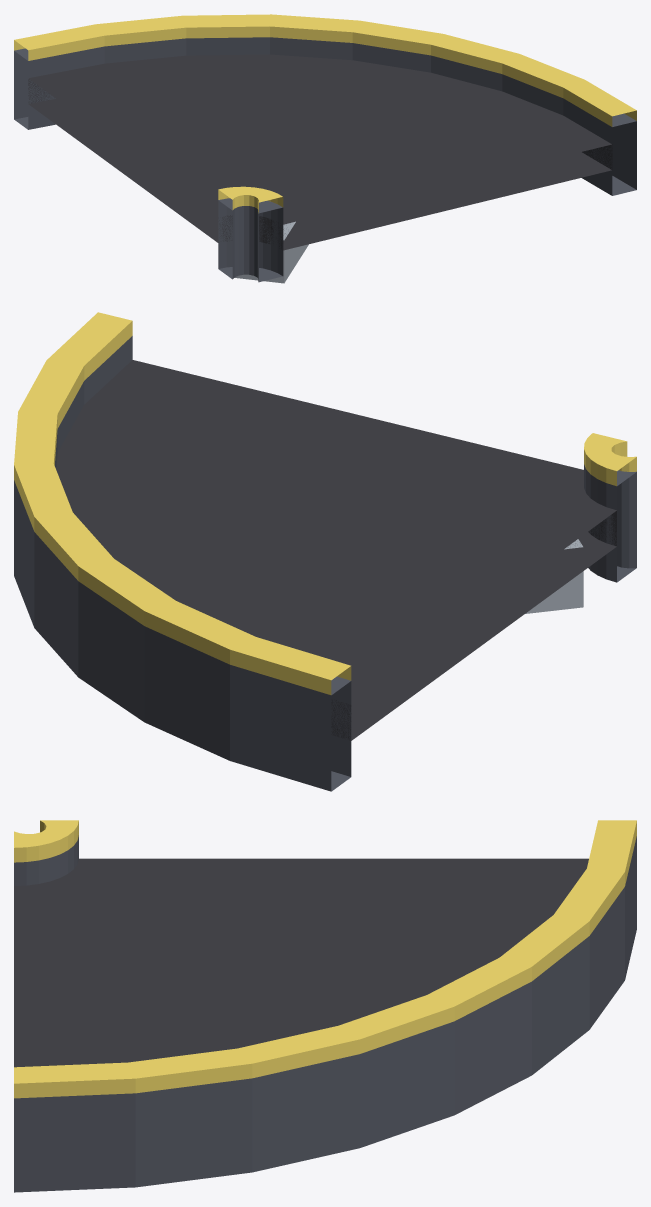
File: esteira_curva_esq.glb
The picture shows the model from 3 angles, top to bottom: view 1: azimuth 30°, elevation 25°; view 2: azimuth 150°, elevation 25°; view 3: azimuth 270°, elevation 25°; orthographic projection. The views are drawn at different scales.
Visible parts, largest first — view 1: esteira_curva_esq; view 2: esteira_curva_esq; view 3: esteira_curva_esq.
Part boxes in pixels (x1,y1,x2,y2): esteira_curva_esq: (14, 14, 636, 283); esteira_curva_esq: (14, 312, 636, 791); esteira_curva_esq: (14, 820, 636, 1192).
Bounding box in the file's own units: 0.96 × 0.225 × 0.96.
